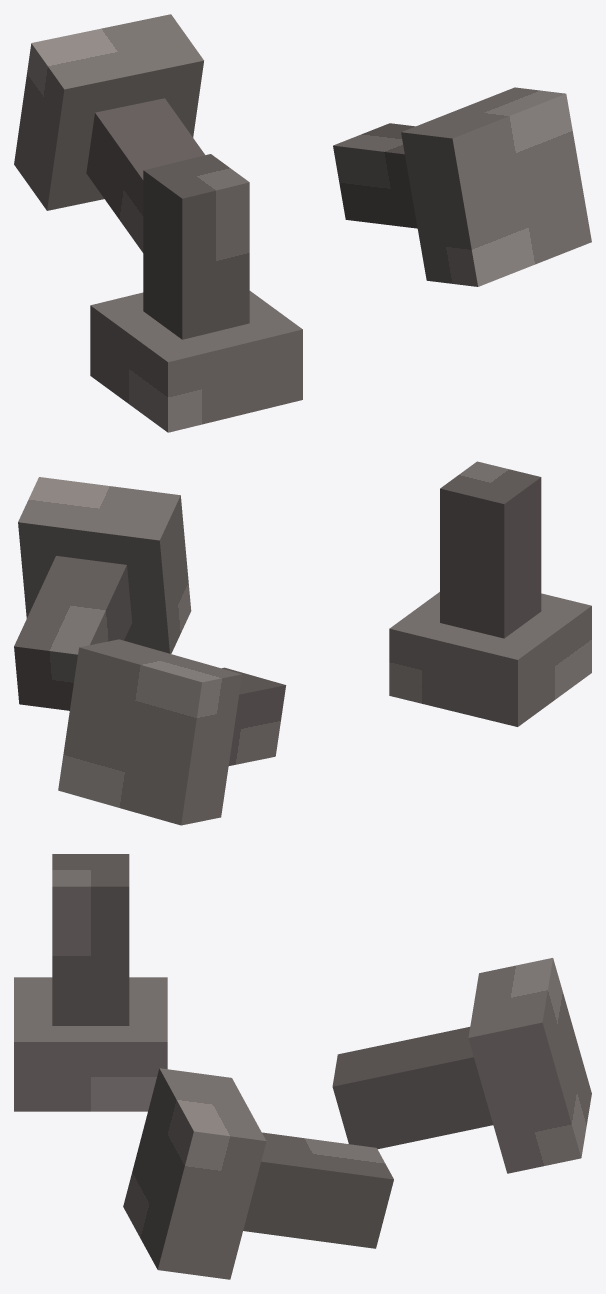
3 views of the same model, one above another, from view 1: azimuth 30°, elevation 25°; view 2: azimuth 150°, elevation 25°; view 3: azimuth 270°, elevation 25° (orthographic). The views are drawn at different scales.
Visible parts, largest first — view 1: Rivet1-Local, Rivet2-Local, Rivet3-Local; view 2: Rivet1-Local, Rivet3-Local, Rivet2-Local; view 3: Rivet2-Local, Rivet3-Local, Rivet1-Local.
Part boxes in pixels (left/top/right/bottom): Rivet1-Local: left=90, top=154, right=302, bottom=432; Rivet2-Local: left=333, top=87, right=591, bottom=286; Rivet3-Local: left=14, top=14, right=204, bottom=252; Rivet1-Local: left=389, top=461, right=591, bottom=726; Rivet3-Local: left=58, top=639, right=286, bottom=825; Rivet2-Local: left=14, top=477, right=191, bottom=710; Rivet2-Local: left=123, top=1068, right=393, bottom=1279; Rivet3-Local: left=332, top=958, right=591, bottom=1173; Rivet1-Local: left=14, top=854, right=167, bottom=1111.
Bounding box in the file's own units: 14.74 × 6.02 × 15.05.
Materials: 3 (3 with a texture image).
